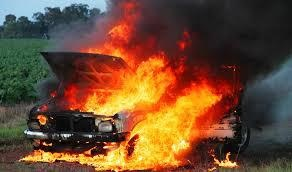fire: (33, 11, 252, 172)
